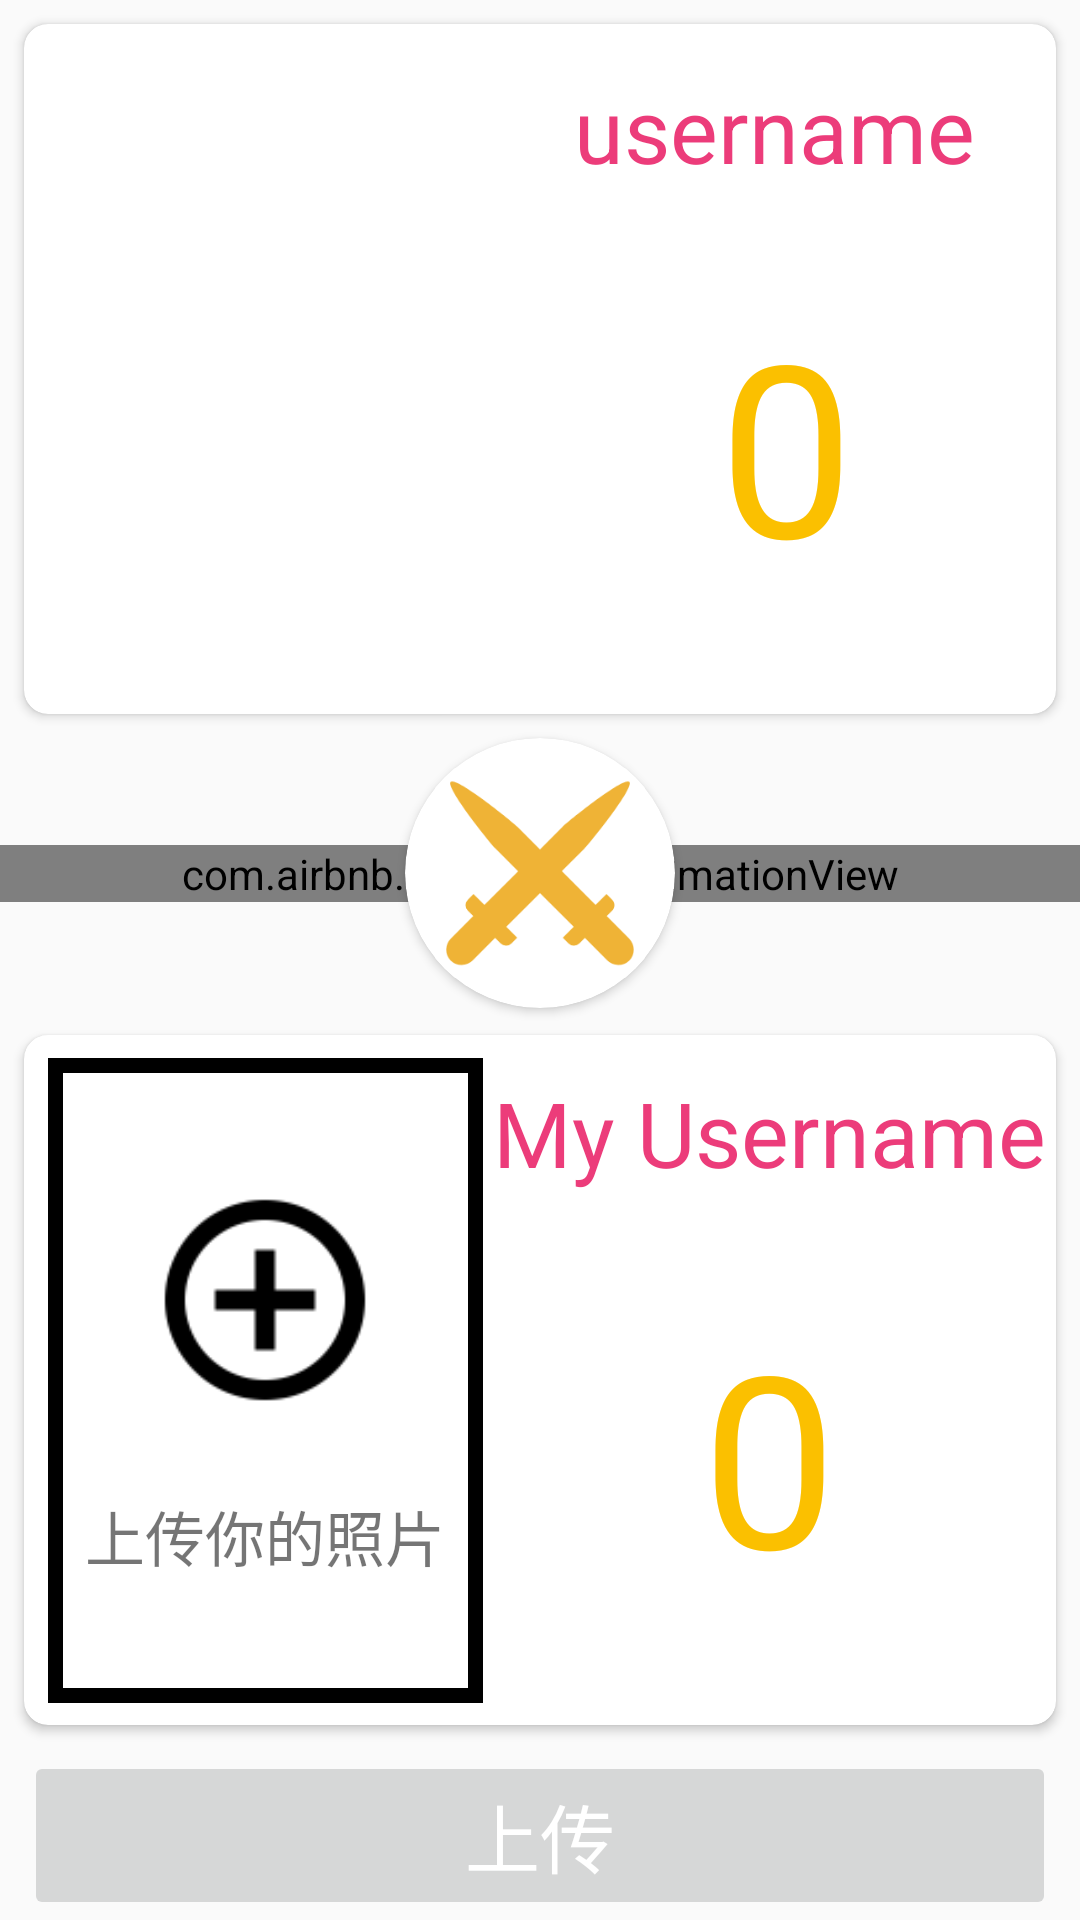

Screen size 1080px x 1920px. Icon name, then its box in pixels as (x1, y1, x2, y2):
add circle: (164, 1199, 366, 1401)
